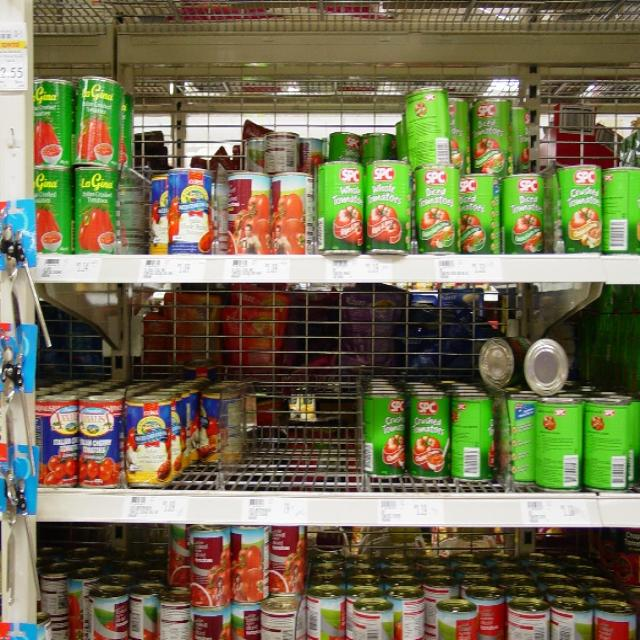q193: (320, 160, 366, 256), (556, 169, 604, 248), (367, 161, 409, 247), (415, 169, 458, 251), (409, 388, 444, 484), (604, 164, 640, 256), (404, 84, 446, 160), (467, 94, 511, 166), (504, 171, 546, 243), (464, 176, 498, 254)
